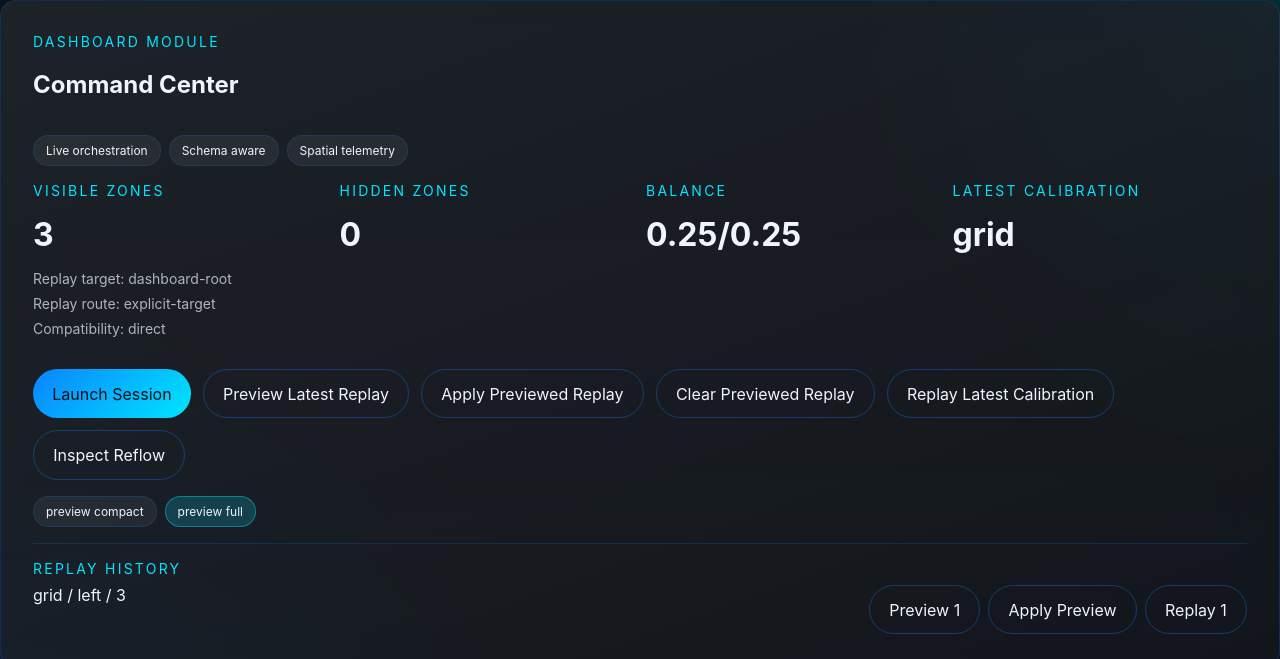
Test: spatial telemetry modules › clears persisted replay preview state on demand
Click the button "Preview Latest Replay".
click(306, 394)  # box [203, 369, 409, 418]
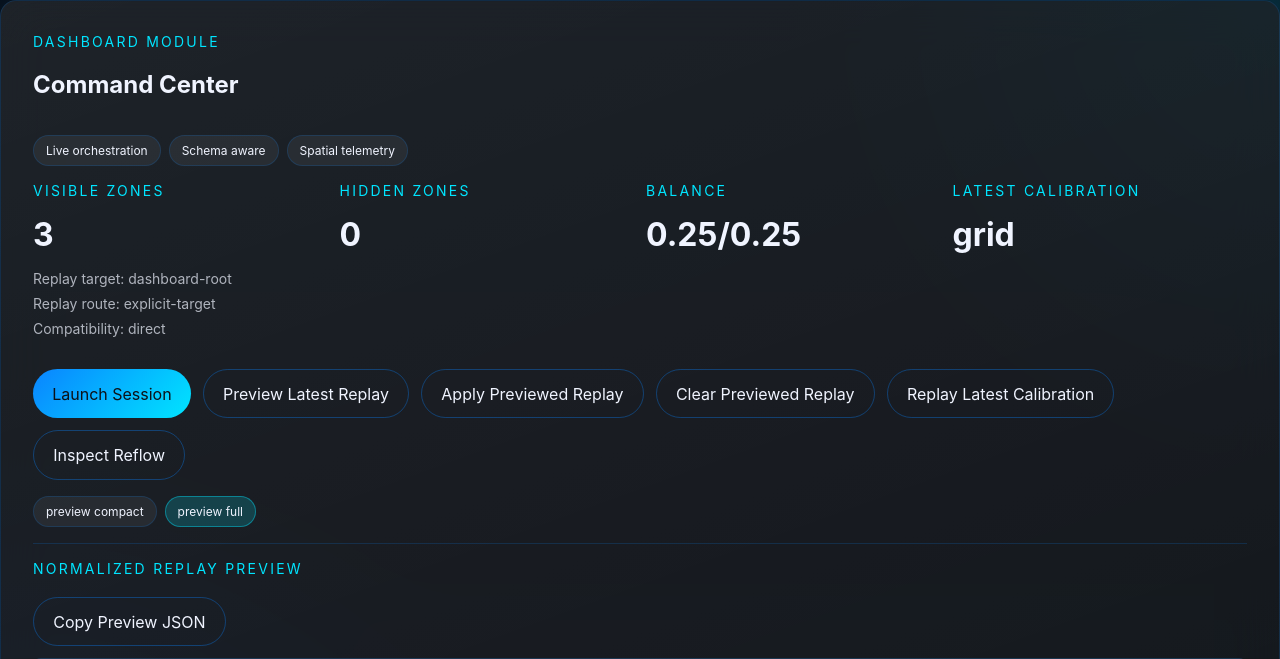
Click the button "Clear Previewed Replay".
click(765, 394)  # box [656, 369, 875, 418]
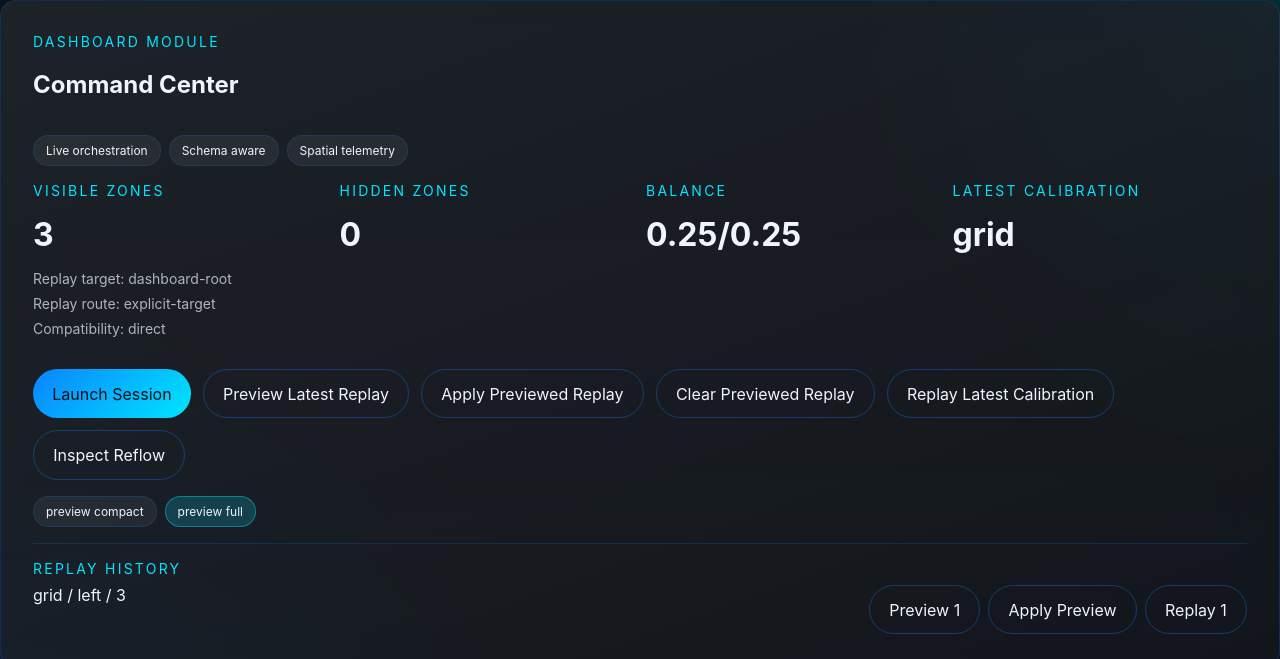
Check: the text labelled "Normalized Replay Preview" is gone
